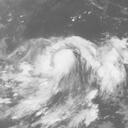cyclone: (38, 35, 98, 91)
